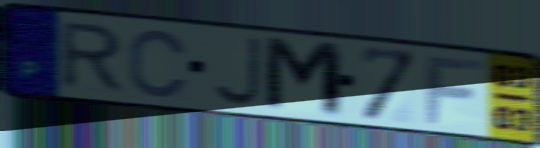7: (359, 44, 418, 124)
C: (127, 27, 191, 101)
F: (422, 55, 487, 127)
J: (209, 35, 263, 108)
M: (261, 33, 348, 121)
R: (57, 20, 128, 94)
